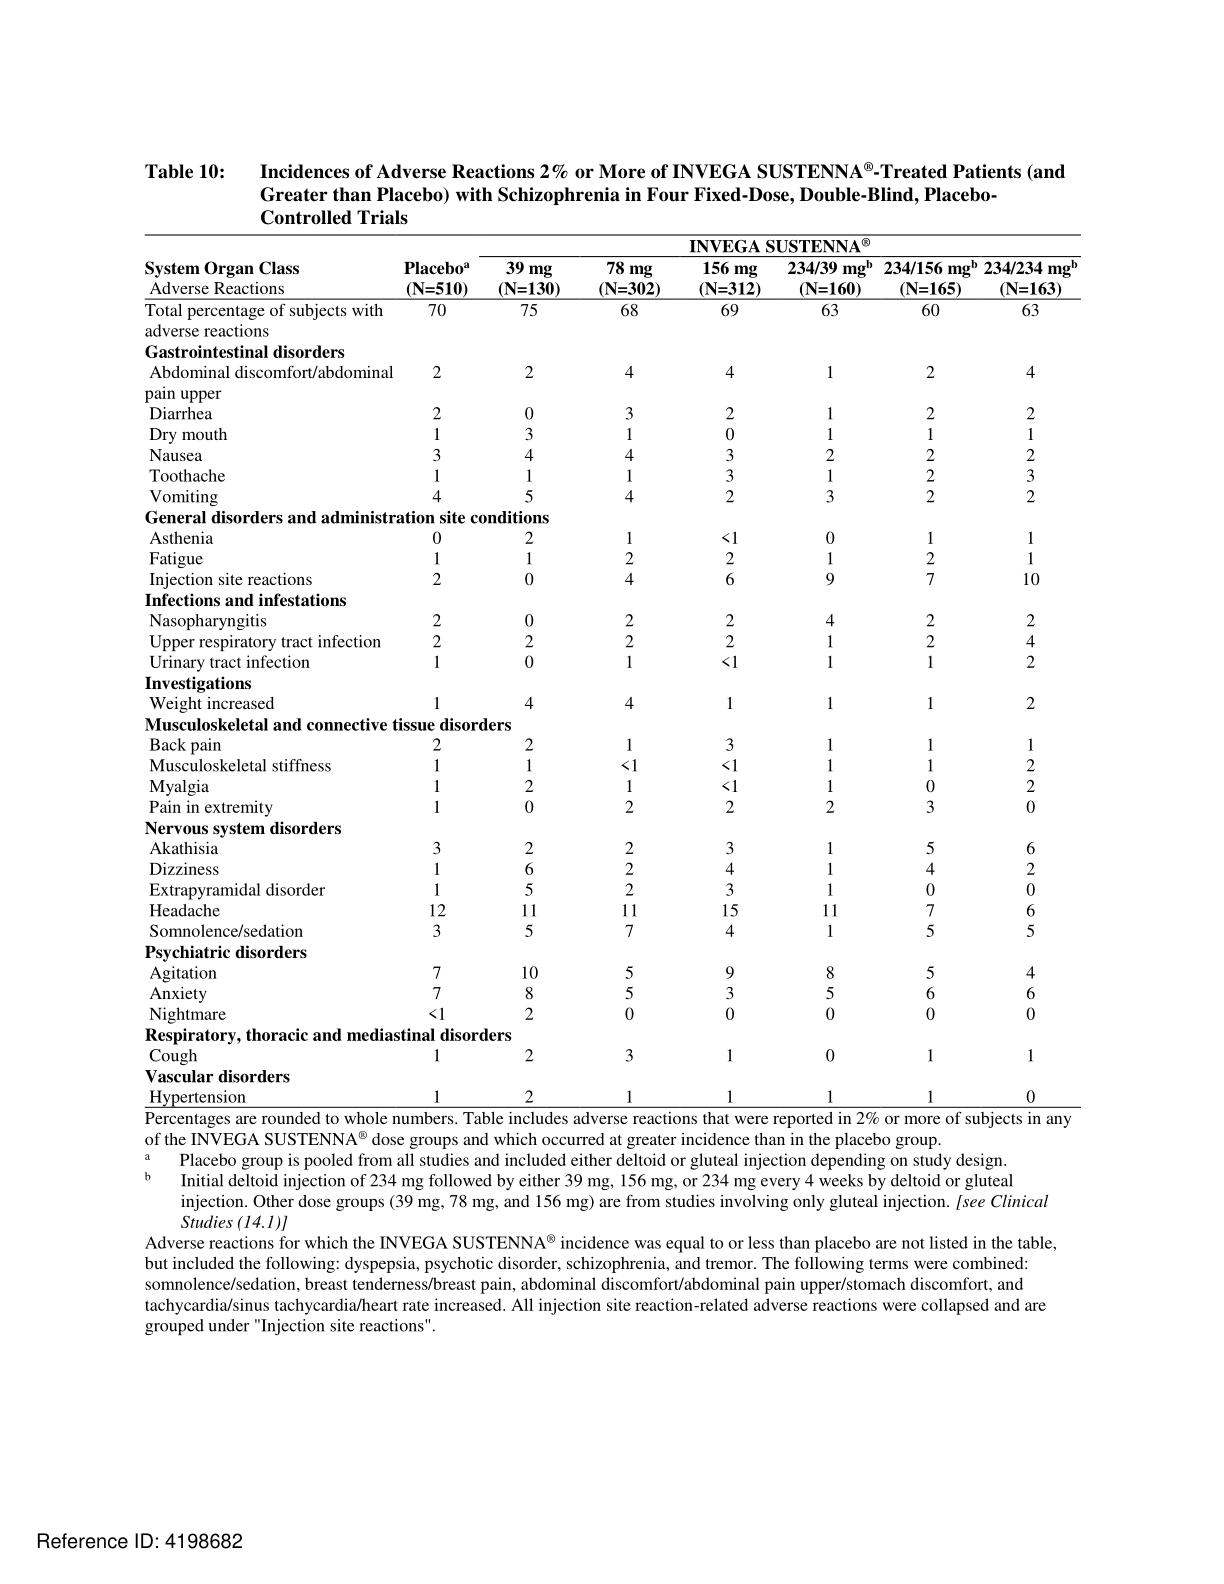partial_lined_merged_cells: (140, 231, 1086, 1106)
